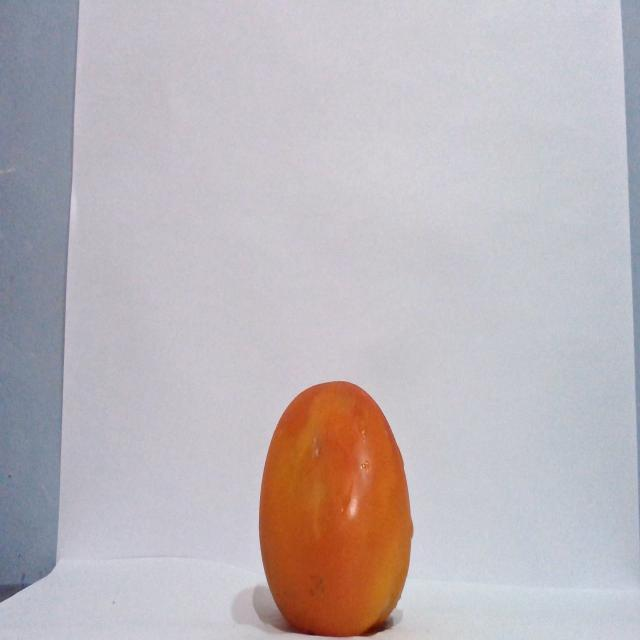Red: (257, 378, 414, 636)
